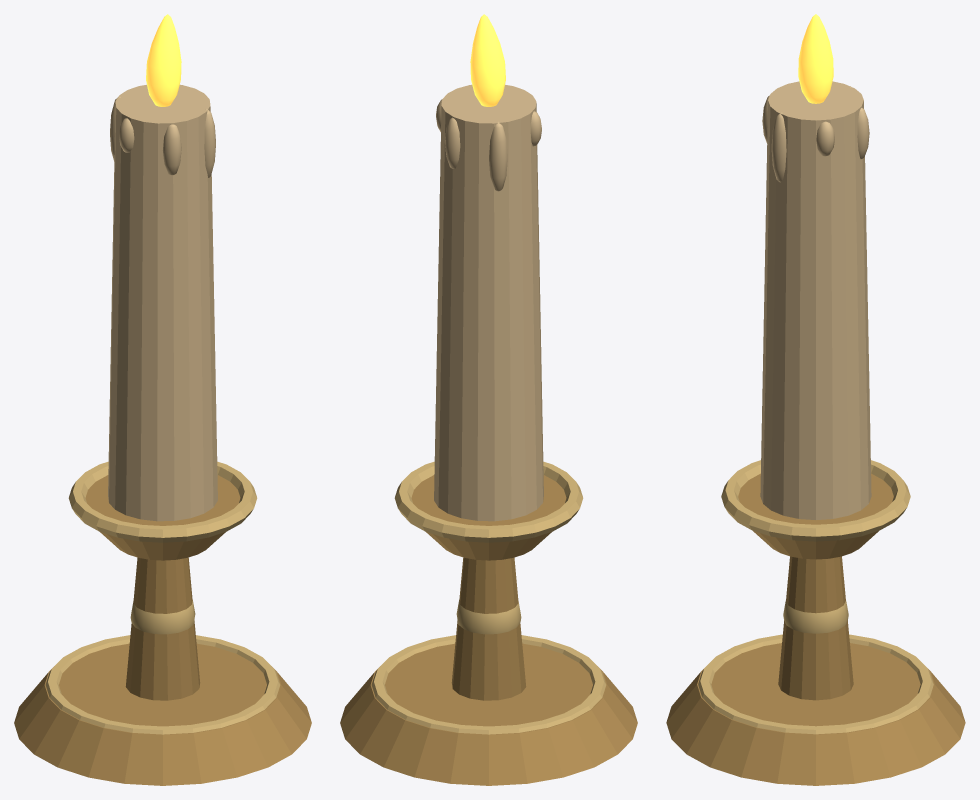
File: wizard_candle.glb
3 renders of one model, left to right at view 1: azimuth 30°, elevation 25°; view 2: azimuth 150°, elevation 25°; view 3: azimuth 270°, elevation 25°, orthographic.
Visible parts, largest first — view 1: wizard_candle_Static, Flame; view 2: wizard_candle_Static, Flame; view 3: wizard_candle_Static, Flame.
Boxes of the visible parts, x1,y1,x2,y2 form: wizard_candle_Static: (14, 84, 311, 785); Flame: (146, 14, 181, 106); wizard_candle_Static: (340, 84, 637, 785); Flame: (470, 14, 505, 106); wizard_candle_Static: (666, 81, 965, 785); Flame: (798, 14, 833, 103).
Size of the model in its own units: 0.78 by 2.04 by 0.78.
